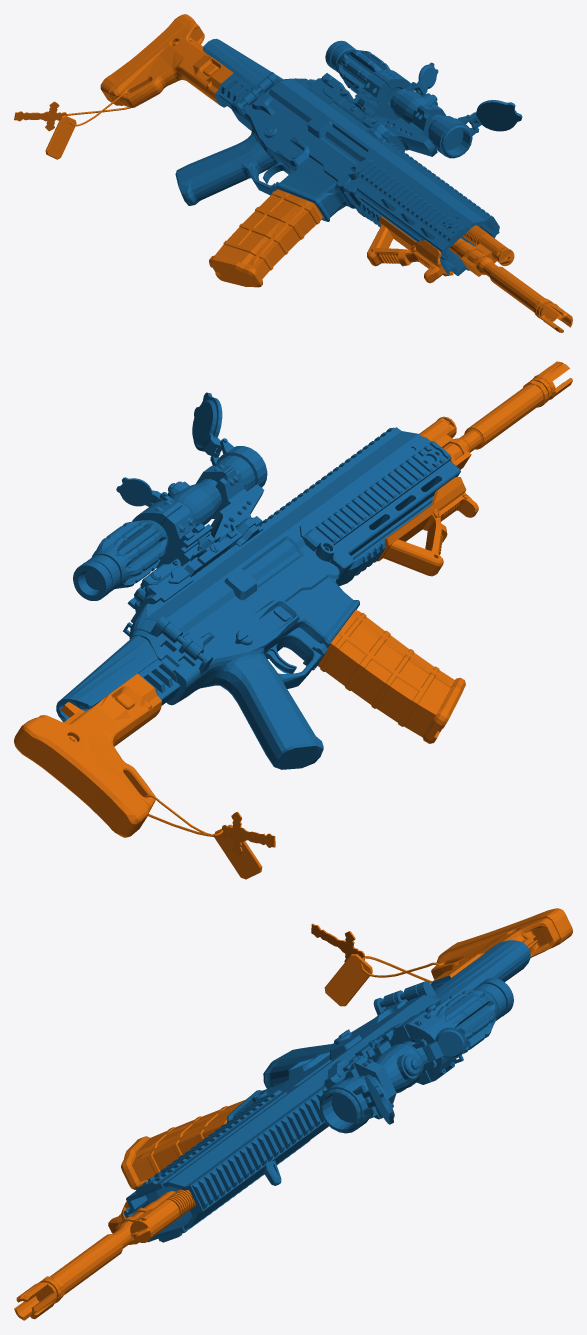
File: rifle_k2.glb
3 views of the same model, one above another, from view 1: azimuth 30°, elevation 25°; view 2: azimuth 150°, elevation 25°; view 3: azimuth 330°, elevation 25° (orthographic). The views are drawn at different scales.
Parts seen in each view (by area): view 1: world; view 2: world; view 3: world.
Part boxes in pixels (x1,y1,x2,y2): world: (14, 14, 572, 332); world: (14, 361, 572, 879); world: (14, 908, 572, 1320).
Size of the model in its own units: 0.8026 by 0.4502 by 1.93.
